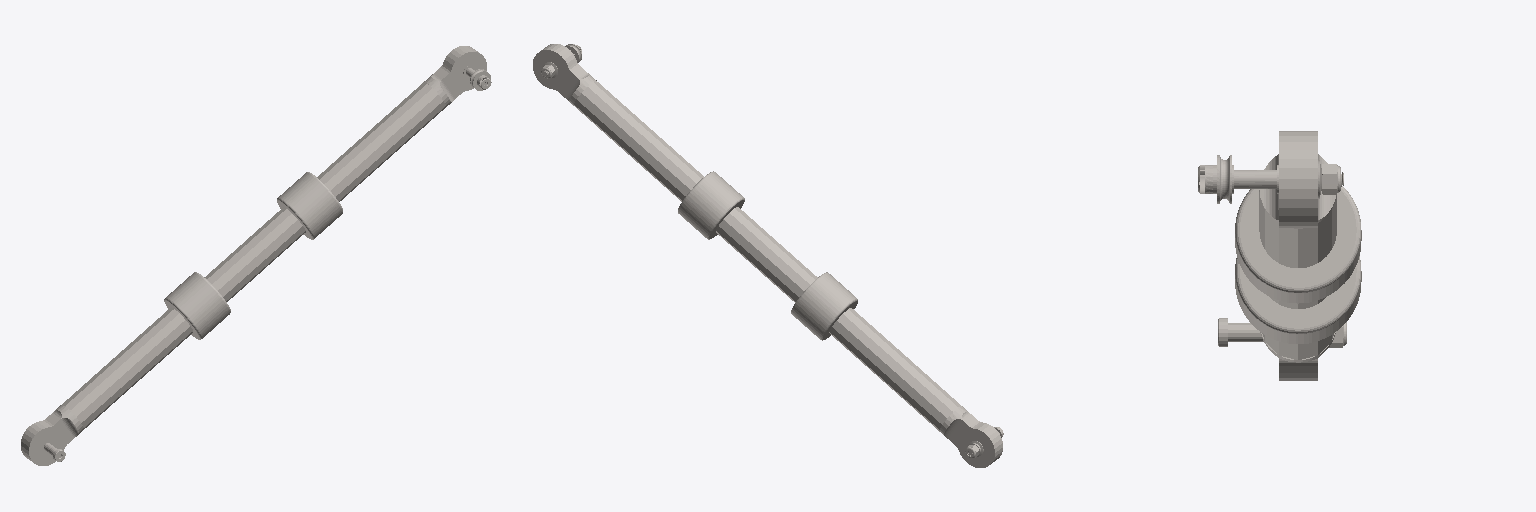
URDF robot description (hopper_rev08):
<?xml version="1.0" encoding="utf-8"?>
 
<!-- This URDF was automatically created by SolidWorks to URDF Exporter! Originally created by [author] ([email redacted]) 
     Commit Version: 1.6.0-1-g15f4949  Build Version: 1.6.7594.29634
     For more information, please see http://wiki.ros.org/sw_urdf_exporter -->
<robot
  name="hopper_rev08">
  <mujoco>
    <compiler 
    balanceinertia="true" 
    discardvisual="false" />
  </mujoco>
  <link
    name="base_link">
    <inertial>
      <origin
        xyz="-0.00332091752229416 -4.21471772738262E-05 0.0145280493491318"
        rpy="0 0 0" />
      <mass
        value="4.38051667799002" />
      <inertia
        ixx="0.03370055"
        ixy="0.00002221"
        ixz="-0.00027185"
        iyy="0.01701751"
        iyz="-0.00011962"
        izz="0.03500408" />
    </inertial>
    <visual>
      <origin
        xyz="0 0 0"
        rpy="0 0 0" />
      <geometry>
        <mesh
          filename="base_link.obj" />
      </geometry>
      <material
        name="">
        <color
          rgba="0.898039215686275 0.917647058823529 0.929411764705882 1" />
      </material>
    </visual>
    <collision>
      <origin
        xyz="0 0 0"
        rpy="0 0 0" />
      <geometry>
        <mesh
          filename="base_link.obj" />
      </geometry>
    </collision>
  </link>
  <link
    name="Link 0">
    <inertial>
      <origin
        xyz="0.00532254792641475 0.0312919315403303 0.000492239493659961"
        rpy="0 0 0" />
      <mass
        value="0.58695463086016" />
      <inertia
        ixx="0.00042395"
        ixy="-0.00008665"
        ixz="0.00001451"
        iyy="0.00083862"
        iyz=" -0.00000718"
        izz="0.00063227" />
    </inertial>
    <visual>
      <origin
        xyz="0 0 0"
        rpy="0 0 0" />
      <geometry>
        <mesh
          filename="Link 0.obj" />
      </geometry>
      <material
        name="">
        <color
          rgba="0.898039215686275 0.917647058823529 0.929411764705882 1" />
      </material>
    </visual>
    <collision>
      <origin
        xyz="0 0 0"
        rpy="0 0 0" />
      <geometry>
        <mesh
          filename="Link 0.obj" />
      </geometry>
    </collision>
  </link>
  <joint
    name="Joint 0"
    type="revolute">
    <origin
      xyz="0 0 0"
      rpy="0 0.523598775598322 0" />
    <parent
      link="base_link" />
    <child
      link="Link 0" />
    <axis
      xyz="0 -1 0" />
    <limit
      lower="-3.14"
      upper="3.14"
      effort="0"
      velocity="0" />
  </joint>
  <link
    name="Link 1">
    <inertial>
      <origin
        xyz="0.133101645966398 0.00662597443711556 -1.77401769663188E-09"
        rpy="0 0 0" />
      <mass
        value="0.0631473819780293" />
      <inertia
        ixx="0.00000301"
        ixy="0.00000270"
        ixz="0.0"
        iyy="0.00074326"
        iyz="0.0"
        izz="0.00074371" />
    </inertial>
    <visual>
      <origin
        xyz="0 0 0"
        rpy="0 0 0" />
      <geometry>
        <mesh
          filename="Link 1.obj" />
      </geometry>
      <material
        name="">
        <color
          rgba="0.776470588235294 0.756862745098039 0.737254901960784 1" />
      </material>
    </visual>
    <collision>
      <origin
        xyz="0 0 0"
        rpy="0 0 0" />
      <geometry>
        <mesh
          filename="Link 1.obj" />
      </geometry>
    </collision>
  </link>
  <joint
    name="Joint 1"
    type="revolute">
    <origin
      xyz="0.0999999999999984 0 0"
      rpy="3.14159265358979 1.07683151783354 3.14159265358979" />
    <parent
      link="Link 0" />
    <child
      link="Link 1" />
    <axis
      xyz="0 -1 0" />
    <limit
      lower="-0.7597"
      upper="1.8295"
      effort="0"
      velocity="0" />
  </joint>
  <link
    name="Link 2">
    <inertial>
      <origin
        xyz="0.0181413414698164 -0.0300644982791918 -0.00029245641838564"
        rpy="0 0 0" />
      <mass
        value="0.61941411063406" />
      <inertia
        ixx="0.00043903"
        ixy="0.00025348"
        ixz="-0.00003185"
        iyy="0.00280670"
        iyz="-0.00000448"
        izz="0.00262186" />
    </inertial>
    <visual>
      <origin
        xyz="0 0 0"
        rpy="0 0 0" />
      <geometry>
        <mesh
          filename="Link 2.obj" />
      </geometry>
      <material
        name="">
        <color
          rgba="0.898039215686275 0.917647058823529 0.929411764705882 1" />
      </material>
    </visual>
    <collision>
      <origin
        xyz="0 0 0"
        rpy="0 0 0" />
      <geometry>
        <mesh
          filename="Link 2.obj" />
      </geometry>
    </collision>
  </link>
  <joint
    name="Joint 2"
    type="revolute">
    <origin
      xyz="0 0 0"
      rpy="3.14159265358979 0.553232742319411 3.14159265358979" />
    <parent
      link="base_link" />
    <child
      link="Link 2" />
    <axis
      xyz="0 -1 0" />
    <limit
      lower="-3.14"
      upper="3.14"
      effort="0"
      velocity="0" />
  </joint>
  <link
    name="Link 3">
    <inertial>
      <origin
        xyz="0.101438164997463 -0.00250998180028712 -0.0148532863907363"
        rpy="0 0 0" />
      <mass
        value="0.124857597355403" />
      <inertia
        ixx="0.00002206"
        ixy="0.00002877"
        ixz="-0.00004536"
        iyy="0.00135609"
        iyz="-0.00000125"
        izz="0.00135010" />
    </inertial>
    <visual>
      <origin
        xyz="0 0 0"
        rpy="0 0 0" />
      <geometry>
        <mesh
          filename="Link 3.obj" />
      </geometry>
      <material
        name="">
        <color
          rgba="1 1 1 1" />
      </material>
    </visual>
    <collision>
      <origin
        xyz="0 0 0"
        rpy="0 0 0" />
      <geometry>
        <mesh
          filename="Link 3.obj" />
      </geometry>
    </collision>
  </link>
  <joint
    name="Joint 3"
    type="revolute">
    <origin
      xyz="0.270000000042221 0 0"
      rpy="-3.14159265358979 -1.0768315174382 3.14159265358979" />
    <parent
      link="Link 2" />
    <child
      link="Link 3" />
    <axis
      xyz="0 -1 0" />
    <limit
      lower="-1.8295"
      upper="0.7597"
      effort="0"
      velocity="0" />
  </joint>
  <link
    name="rw0">
    <inertial>
      <origin
        xyz="-0.0115496247149271 -6.56489557160356E-10 1.34791765699044E-09"
        rpy="0 0 0" />
      <mass
        value="0.712386930815601" />
      <inertia
        ixx="0.00277087"
        ixy="0.0"
        ixz="0.00087060"
        iyy="0.00190084"
        iyz="0.0"
        izz="0.00277087" />
    </inertial>
    <visual>
      <origin
        xyz="0 0 0"
        rpy="0 0 0" />
      <geometry>
        <mesh
          filename="rw0.obj" />
      </geometry>
      <material
        name="">
        <color
          rgba="0.647058823529412 0.619607843137255 0.588235294117647 1" />
      </material>
    </visual>
    <collision>
      <origin
        xyz="0 0 0"
        rpy="0 0 0" />
      <geometry>
        <mesh
          filename="rw0.obj" />
      </geometry>
    </collision>
  </link>
  <joint
    name="joint_rw0"
    type="continuous">
    <origin
      xyz="0.0565685424949263 -0.137195959492894 0"
      rpy="3.14159265358979 0 -0.785398163397437" />
    <parent
      link="base_link" />
    <child
      link="rw0" />
    <axis
      xyz="-1 0 0" />
  </joint>
  <link
    name="rw1">
    <inertial>
      <origin
        xyz="-0.011549794011027 6.5641372198888E-10 -1.34804375063122E-09"
        rpy="0 0 0" />
      <mass
        value="0.712386930742353" />
      <inertia
        ixx="0.00277087"
        ixy="0.0"
        ixz="0.00087060"
        iyy="0.00190084"
        iyz="0.0"
        izz="0.00277087" />
    </inertial>
    <visual>
      <origin
        xyz="0 0 0"
        rpy="0 0 0" />
      <geometry>
        <mesh
          filename="rw1.obj" />
      </geometry>
      <material
        name="">
        <color
          rgba="0.647058823529412 0.619607843137255 0.588235294117647 1" />
      </material>
    </visual>
    <collision>
      <origin
        xyz="0 0 0"
        rpy="0 0 0" />
      <geometry>
        <mesh
          filename="rw1.obj" />
      </geometry>
    </collision>
  </link>
  <joint
    name="joint_rw1"
    type="continuous">
    <origin
      xyz="0.0565685424949229 0.137195959492894 0"
      rpy="0 0 0.785398163397453" />
    <parent
      link="base_link" />
    <child
      link="rw1" />
    <axis
      xyz="-1 0 0" />
  </joint>
  <link
    name="rwz">
    <inertial>
      <origin
        xyz="1.51930712455339E-09 -2.24012329918978E-09 -0.0088575158066915"
        rpy="0 0 0" />
      <mass
        value="0.356354012275082" />
      <inertia
        ixx="0.00043511"
        ixy="0.0"
        ixz="0.0"
        iyy="0.00083730"
        iyz="0.0"
        izz="0.00043511" />
    </inertial>
    <visual>
      <origin
        xyz="0 0 0"
        rpy="0 0 0" />
      <geometry>
        <mesh
          filename="rwz.obj" />
      </geometry>
      <material
        name="">
        <color
          rgba="0.647058823529412 0.619607843137255 0.588235294117647 1" />
      </material>
    </visual>
    <collision>
      <origin
        xyz="0 0 0"
        rpy="0 0 0" />
      <geometry>
        <mesh
          filename="rwz.obj" />
      </geometry>
    </collision>
  </link>
  <joint
    name="joint_rwz"
    type="continuous">
    <origin
      xyz="-0.076 0 0.0834999999999998"
      rpy="0 0 -3.14159265358978" />
    <parent
      link="base_link" />
    <child
      link="rwz" />
    <axis
      xyz="0 0 -1" />
  </joint>
</robot>

--- Render facts (derived) ---
The picture shows the robot from 3 angles, left to right: view 1: azimuth 30°, elevation 25°; view 2: azimuth 150°, elevation 25°; view 3: azimuth 270°, elevation 25°; orthographic projection.
Model hopper_rev08 with 8 links and 7 joints (4 revolute, 3 continuous), rooted at base_link, posed every joint at zero.
Links seen in each view (by area): view 1: Link 1; view 2: Link 1; view 3: Link 1.
Boxes of the visible links, x1,y1,x2,y2 form: Link 1: (21, 46, 491, 465); Link 1: (533, 44, 1003, 467); Link 1: (1198, 131, 1361, 380).
Size in the robot's own frame: 0.2497 by 0.0335 by 0.1618 metres.
1 mesh visuals loaded from 8 distinct referenced files (1 OBJ); not drawn: 7 (reference not matched to a file when rendering).